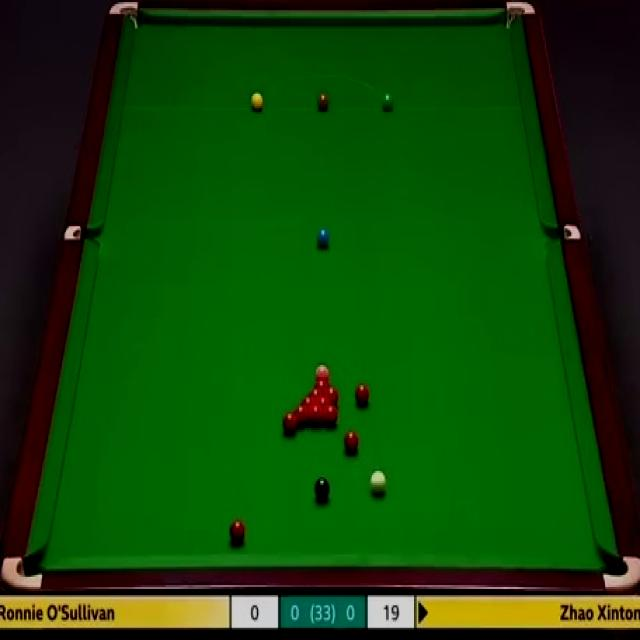black-ball: (315, 475, 333, 500)
blue-ball: (316, 226, 330, 250)
brown-ball: (316, 93, 328, 112)
green-ball: (380, 90, 394, 112)
pink-ball: (314, 364, 328, 381)
red-ball: (229, 518, 245, 546), (343, 429, 359, 454), (354, 383, 370, 406), (281, 412, 297, 434), (294, 405, 310, 427), (324, 405, 339, 427), (316, 392, 331, 413), (309, 407, 324, 427), (301, 395, 316, 408), (330, 386, 339, 405), (316, 382, 330, 393)
white-ball: (369, 468, 387, 496)
yellow-ball: (249, 91, 263, 111)
